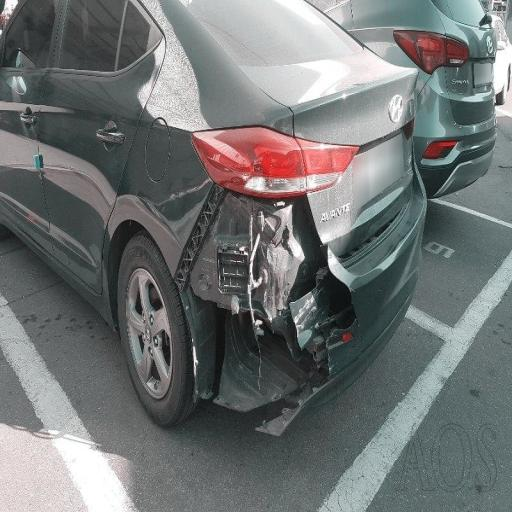broken: (182, 147, 362, 399)
